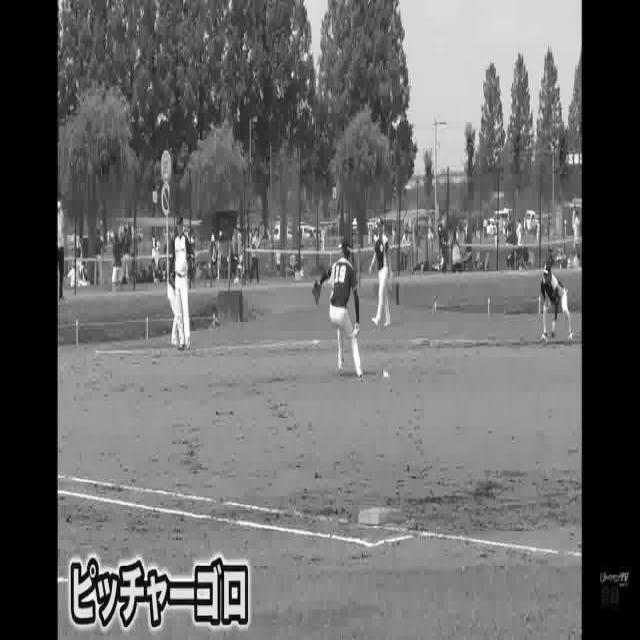base: (359, 504, 403, 528)
baseball: (353, 326, 358, 336)
baseball_glove: (312, 278, 323, 302)
shoe: (336, 355, 344, 368), (355, 369, 364, 377)
